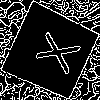X: (25, 26, 81, 76)
